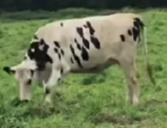cow: (4, 14, 143, 112)
